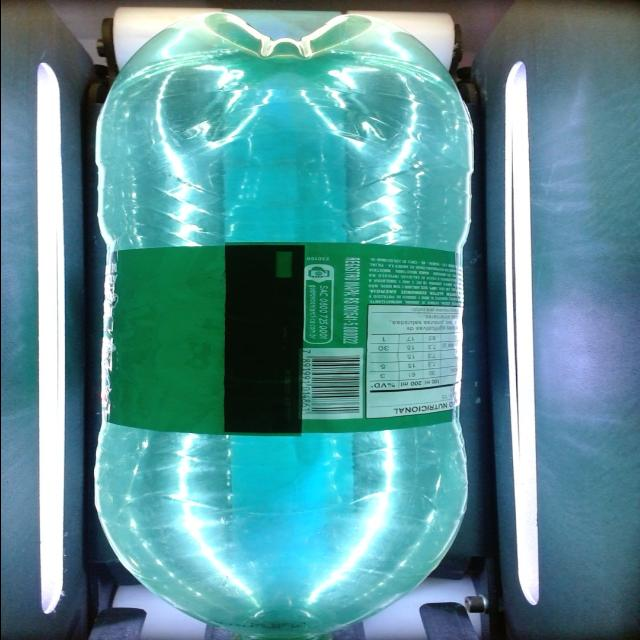bottle: (96, 13, 471, 640)
